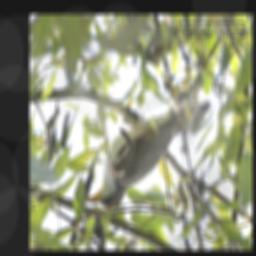Cuckoo: (85, 36, 221, 210)
